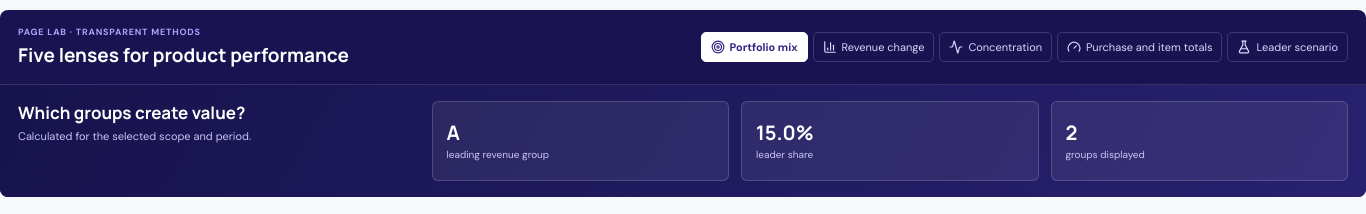
Test: Bilingual lens presentation › uses product revenue rather than event revenue in product concentration
The image size is (1366, 214).
Click the tab "Concentration".
click(996, 47)  # box [939,32,1052,62]
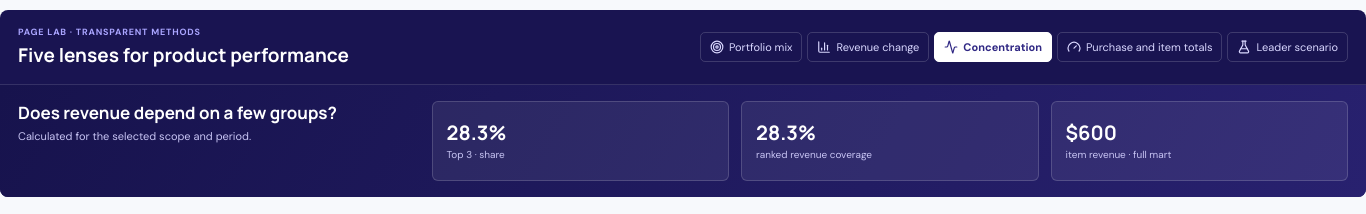
expect the text "Top 3 · share" is shown: met, box [447,148,505,161]
expect the text "item revenue · full mart" is shown: met, box [1066,148,1171,161]
